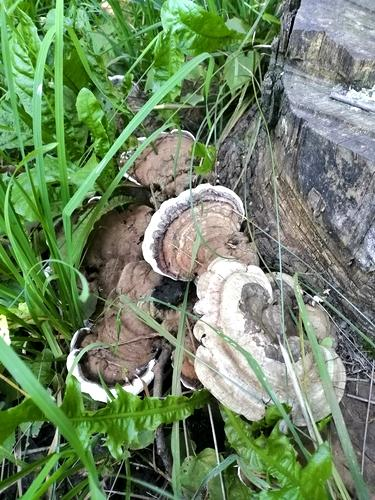Ganoderma - Fruit Body: (192, 278, 349, 424), (142, 180, 248, 273), (70, 305, 157, 407), (86, 198, 142, 299), (124, 127, 197, 174)
